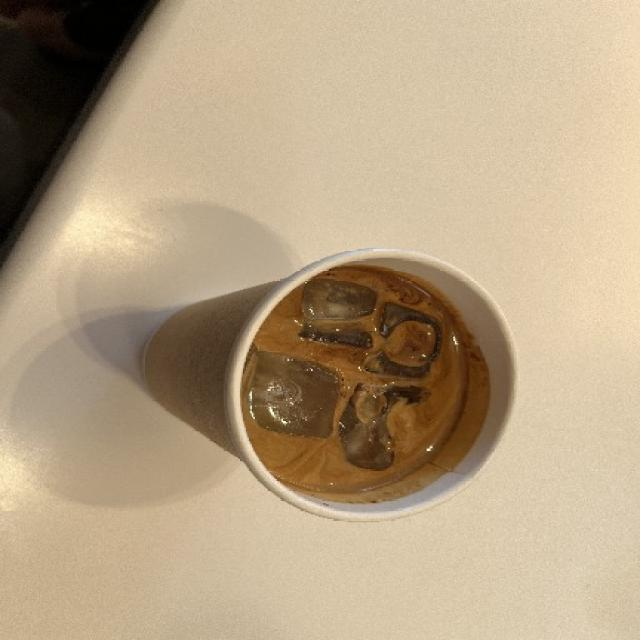Cup: (140, 247, 516, 522)
